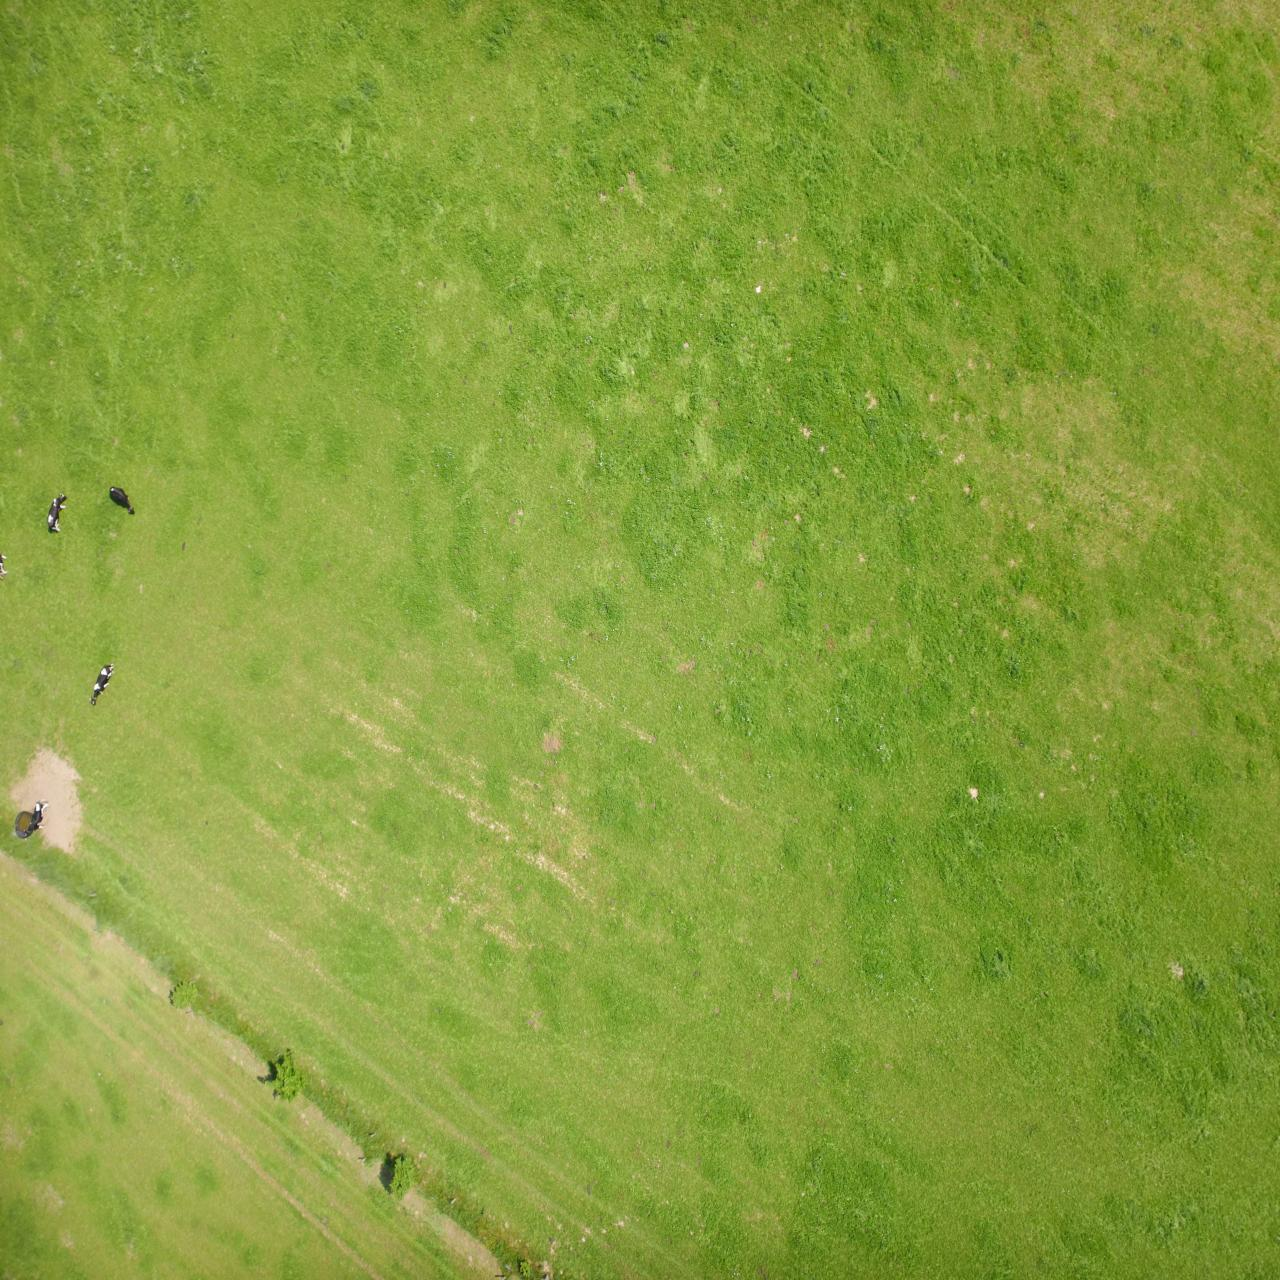cow: (1165, 573, 1190, 618), (1231, 444, 1257, 481), (1214, 747, 1233, 787), (1145, 765, 1171, 794)
